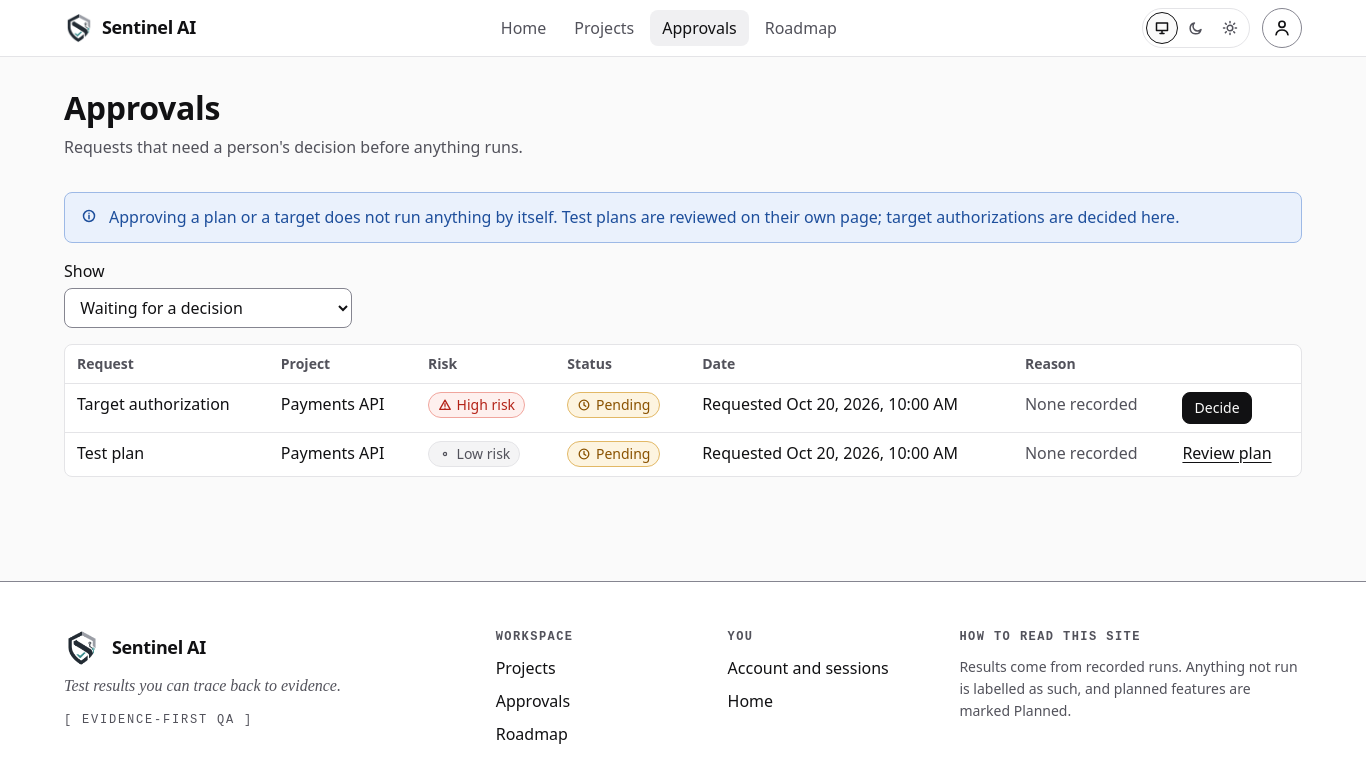
Test: approvals workflow › shows the server's refusal in the dialog and keeps it open
Click the button "Decide" at (1217, 408), box [1182,392,1252,424]
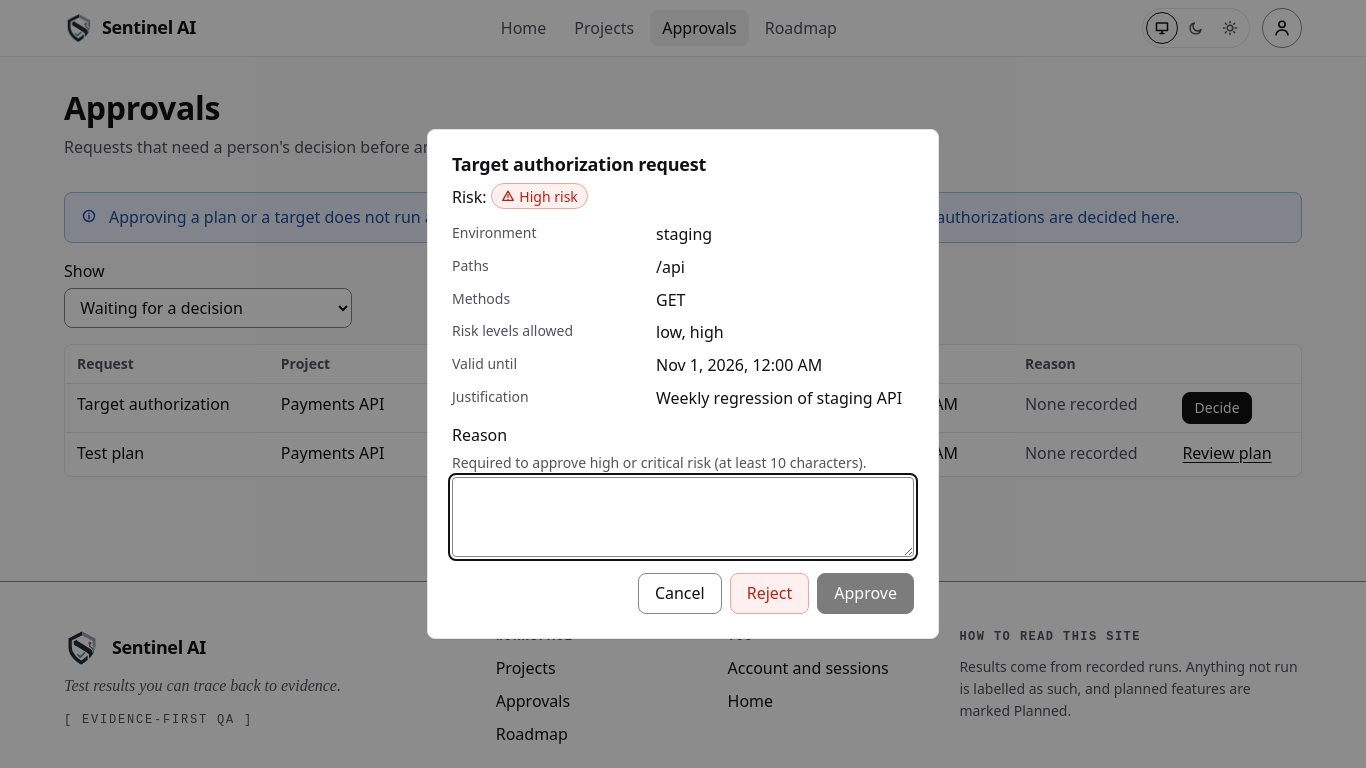
Type "Reviewed scope and window" into the text box labelled "Reason" at (683, 517), box [452,477,914,557]
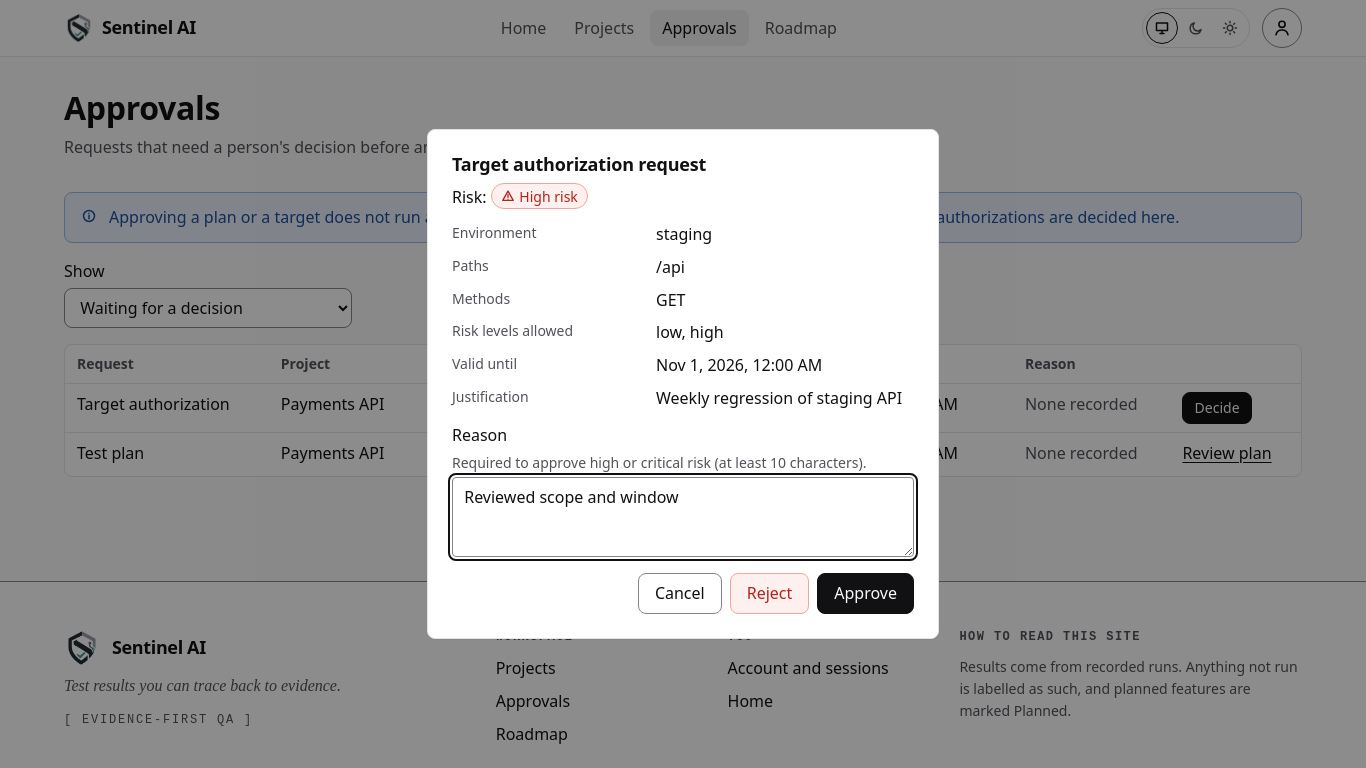
Click the button "Approve" at (866, 594), box [817,573,914,614]
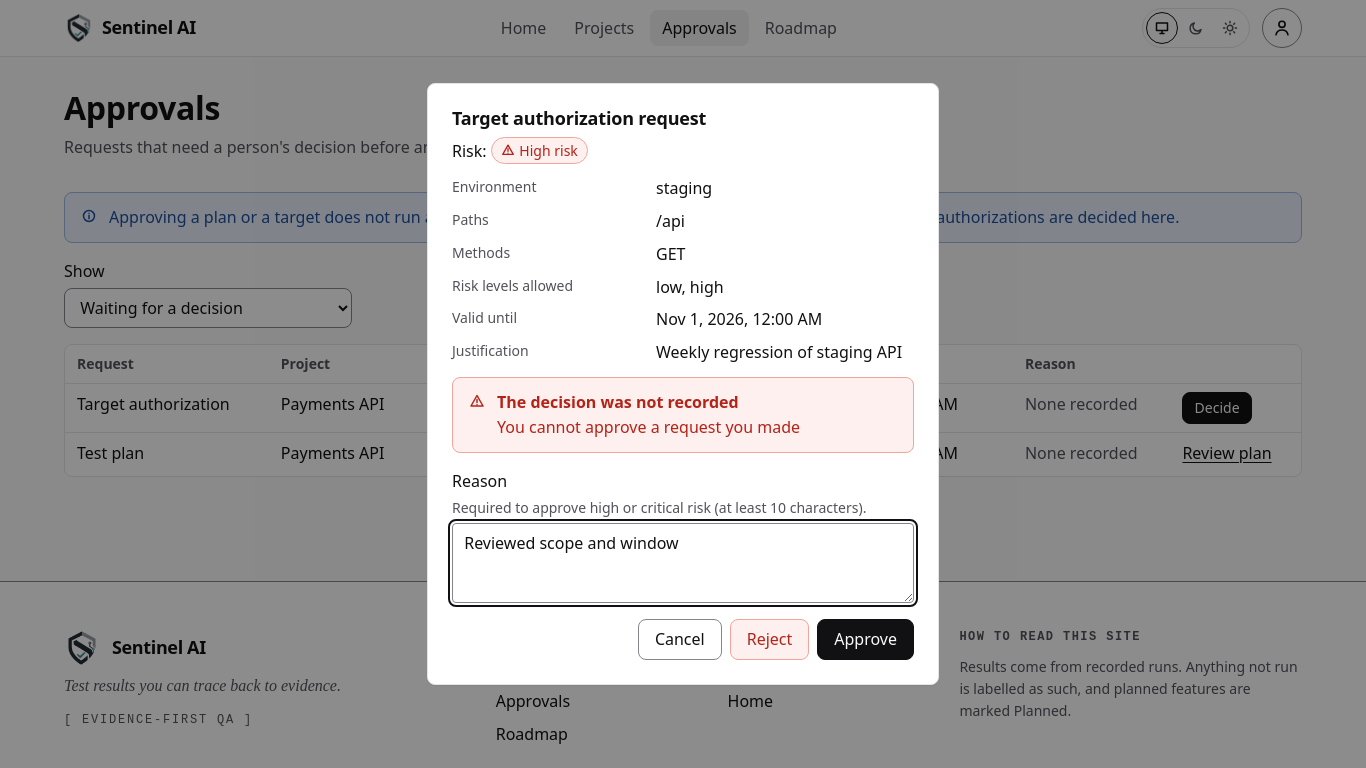
Expected: the dialog is shown, [427,83,939,685]
Expected: the message shows "You cannot approve a request you made", [497,416,800,438]
